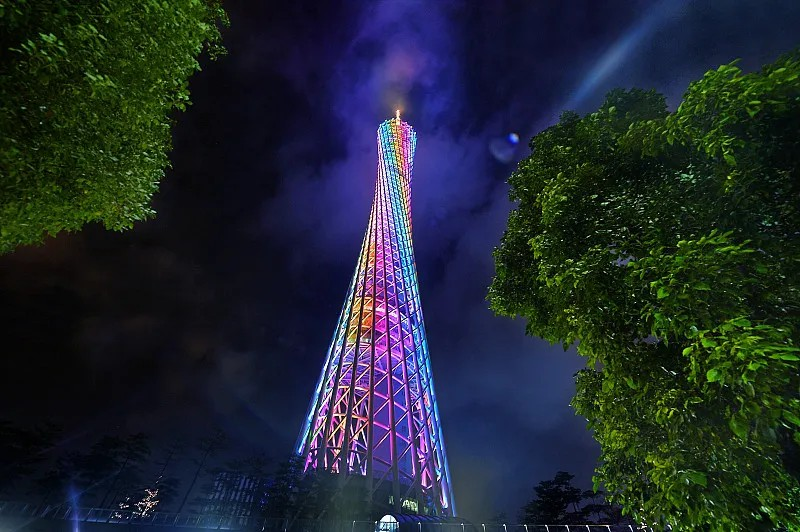Canton: (296, 105, 461, 519)
